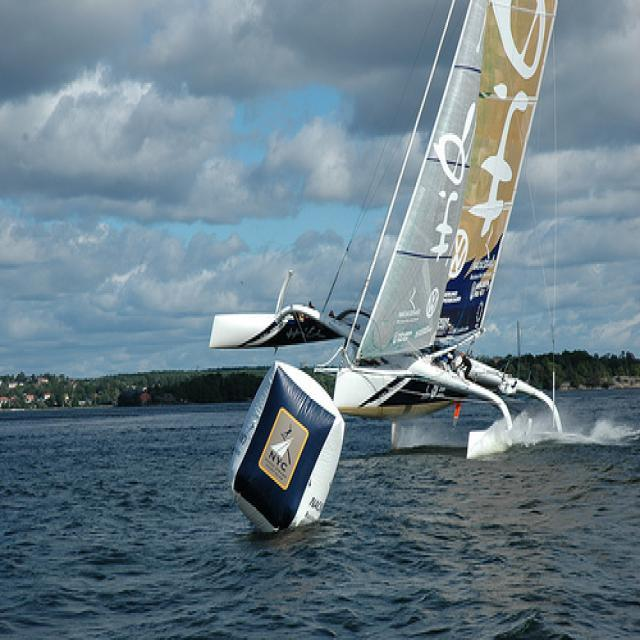Ship: (209, 4, 598, 512)
